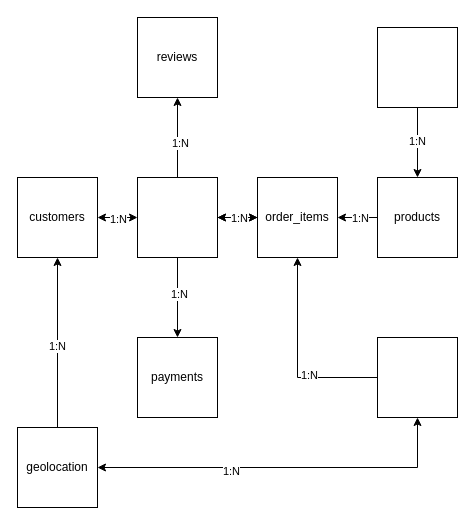
Image size: 475x525. Some labels were removed from this diagram. Each missing label, with the centre of its shape:
orders: pixel 177 217
sellers: pixel 417 377
translations: pixel 417 67
